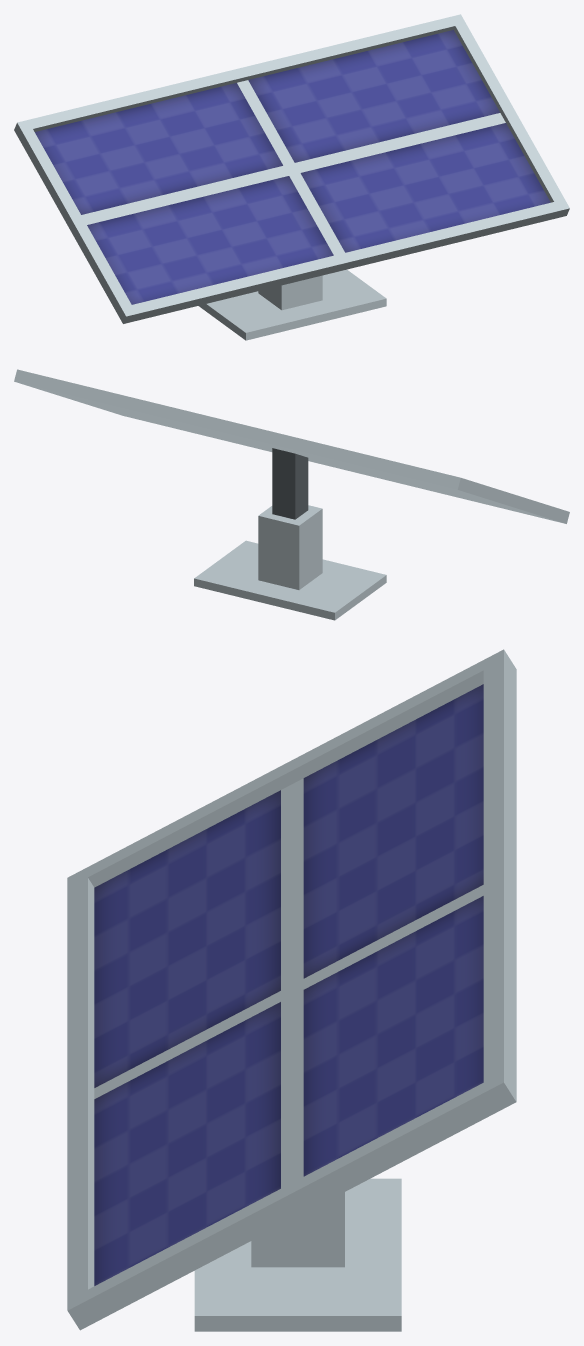
The model's file is model_polytope_dock_solar_panel.fbx.
3 views of the same model, one above another, from view 1: azimuth 30°, elevation 25°; view 2: azimuth 150°, elevation 25°; view 3: azimuth 270°, elevation 25° (orthographic). The views are drawn at different scales.
Visible parts, largest first — view 1: model_polytope_dock_solar_panel; view 2: model_polytope_dock_solar_panel; view 3: model_polytope_dock_solar_panel.
Boxes of the visible parts, bbox=[...] form: model_polytope_dock_solar_panel: bbox=[14, 14, 569, 340]; model_polytope_dock_solar_panel: bbox=[14, 369, 569, 620]; model_polytope_dock_solar_panel: bbox=[67, 649, 516, 1331].
Size of the model in its own units: 285 by 122 by 125.
1 material, 1 textured.
